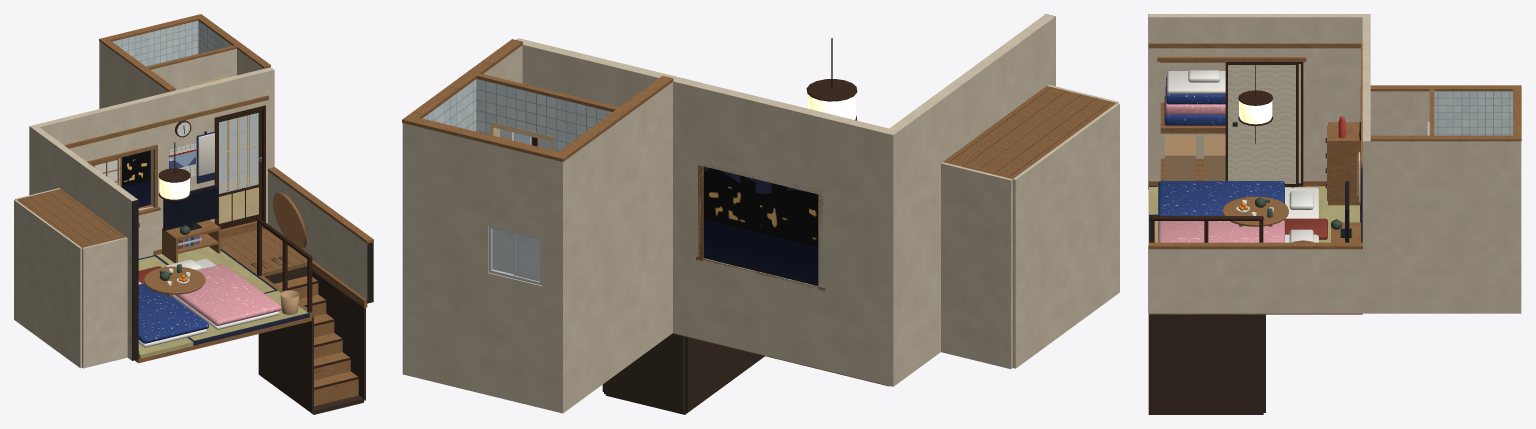
Rendered from dorm.glb.
3 renders of one model, left to right at view 1: azimuth 30°, elevation 25°; view 2: azimuth 150°, elevation 25°; view 3: azimuth 270°, elevation 25°, orthographic. The views are drawn at different scales.
Parts seen in each view (by area): view 1: Dorm, DormLeftCut, DormBathDoor, DormBedding1, DormBathCut, DormBedding0, DormTable, DormTableAway, DormLamp; view 2: Dorm, DormLeftCut, DormBathCut, DormLamp; view 3: Dorm, DormBathCut, DormLeftCut, DormBedding0, DormBedding1, DormTable, DormLamp.
Boxes of the visible parts, bbox=[...] form: Dorm: bbox=[29, 14, 373, 414]; DormLeftCut: bbox=[14, 127, 139, 368]; DormBathDoor: bbox=[217, 110, 261, 229]; DormBedding1: bbox=[165, 258, 281, 329]; DormBathCut: bbox=[146, 17, 270, 90]; DormBedding0: bbox=[138, 281, 208, 347]; DormTable: bbox=[144, 264, 205, 296]; DormTableAway: bbox=[180, 192, 306, 248]; DormLamp: bbox=[159, 178, 189, 199]; Dorm: bbox=[402, 38, 899, 414]; DormLeftCut: bbox=[889, 14, 1119, 382]; DormBathCut: bbox=[409, 39, 618, 151]; DormLamp: bbox=[808, 94, 855, 119]; Dorm: bbox=[1148, 14, 1521, 414]; DormBathCut: bbox=[1370, 89, 1513, 313]; DormLeftCut: bbox=[1148, 14, 1362, 189]; DormBedding0: bbox=[1158, 181, 1318, 218]; DormBedding1: bbox=[1158, 220, 1318, 242]; DormTable: bbox=[1222, 196, 1288, 226]; DormLamp: bbox=[1239, 101, 1272, 124].
Bounding box in the file's own units: 4.53 × 3.91 × 4.71.
47 materials, 17 textured.
